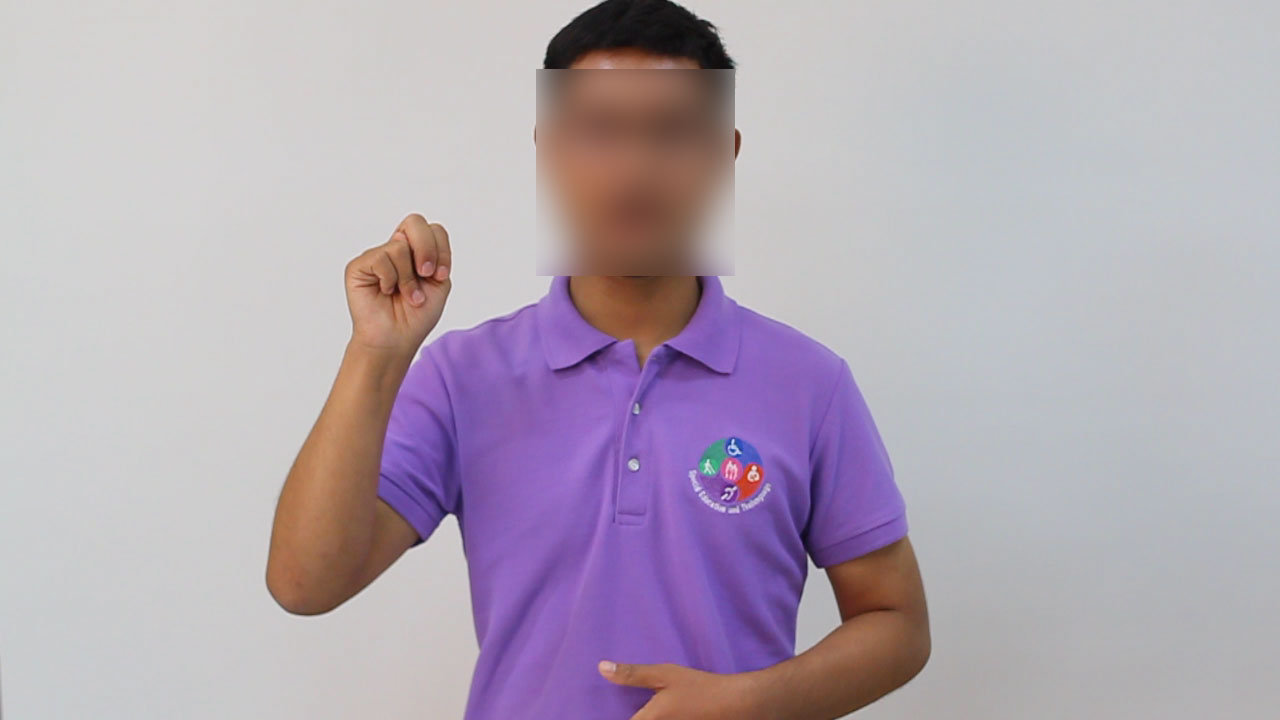nor: (324, 203, 467, 347)
